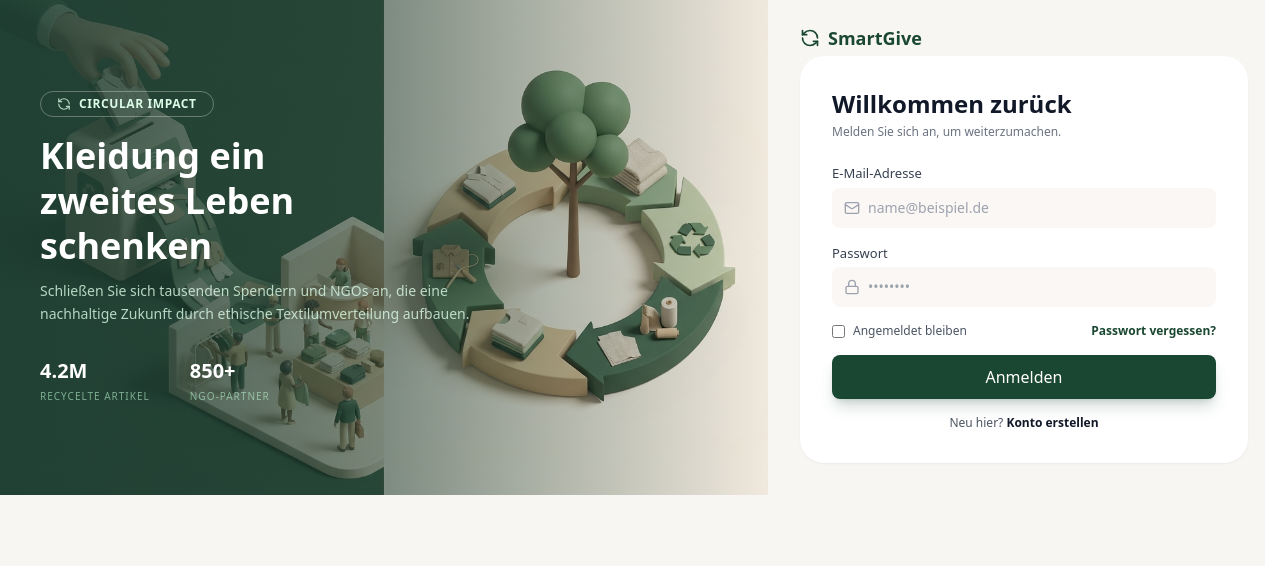
Test: Login Component › sollte bei fehlerhaftem Login eine Fehlermeldung auf dem Bildschirm anzeigen
Nutzer füllt Formular aus
Type "test@invalid.com" into the field with placeholder "name@beispiel.de" at (1024, 208), box [832,188,1216,228]
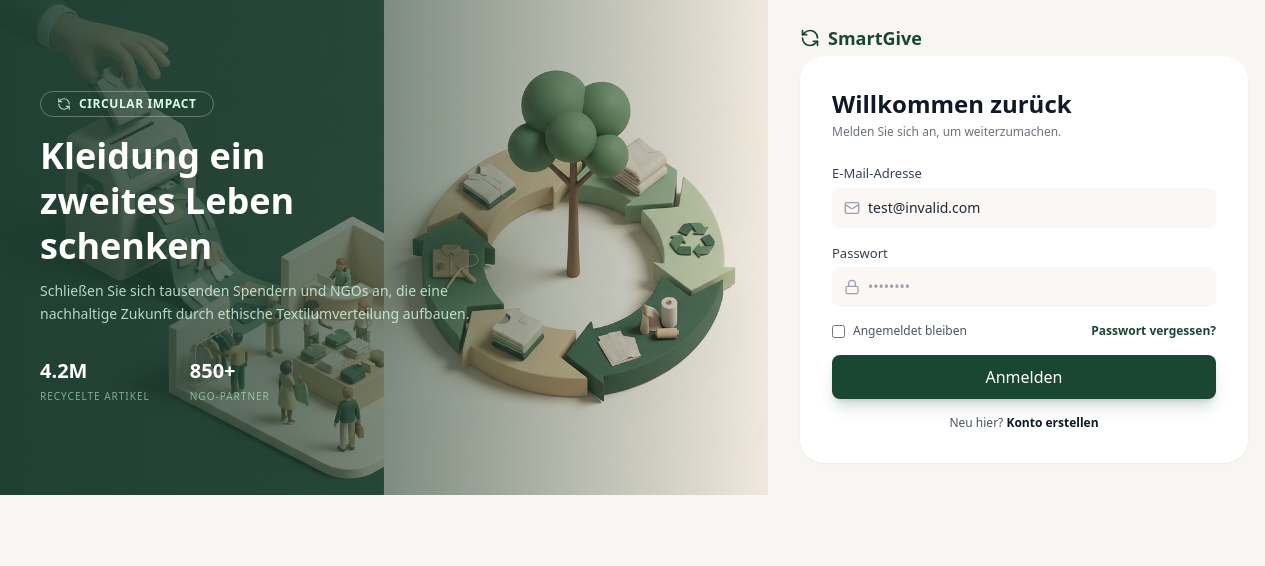
Type "wrong123" into the password field with placeholder "••••••••" at (1024, 287), box [832,267,1216,307]
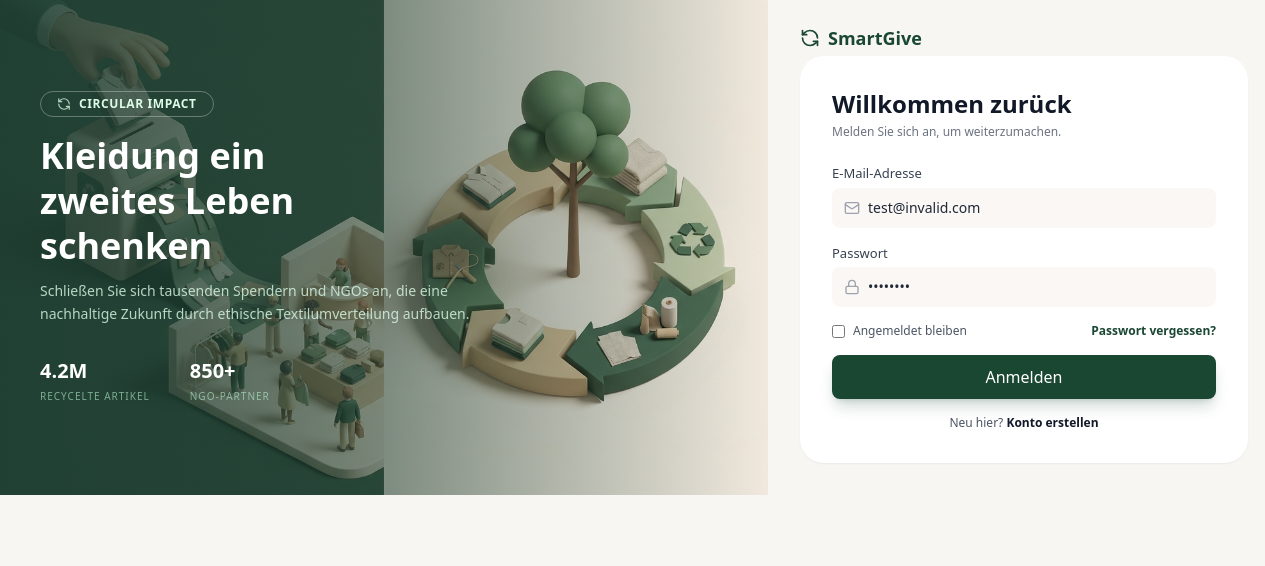
Formular absenden
Click the button "Anmelden" at (1024, 377), box [832,355,1216,399]
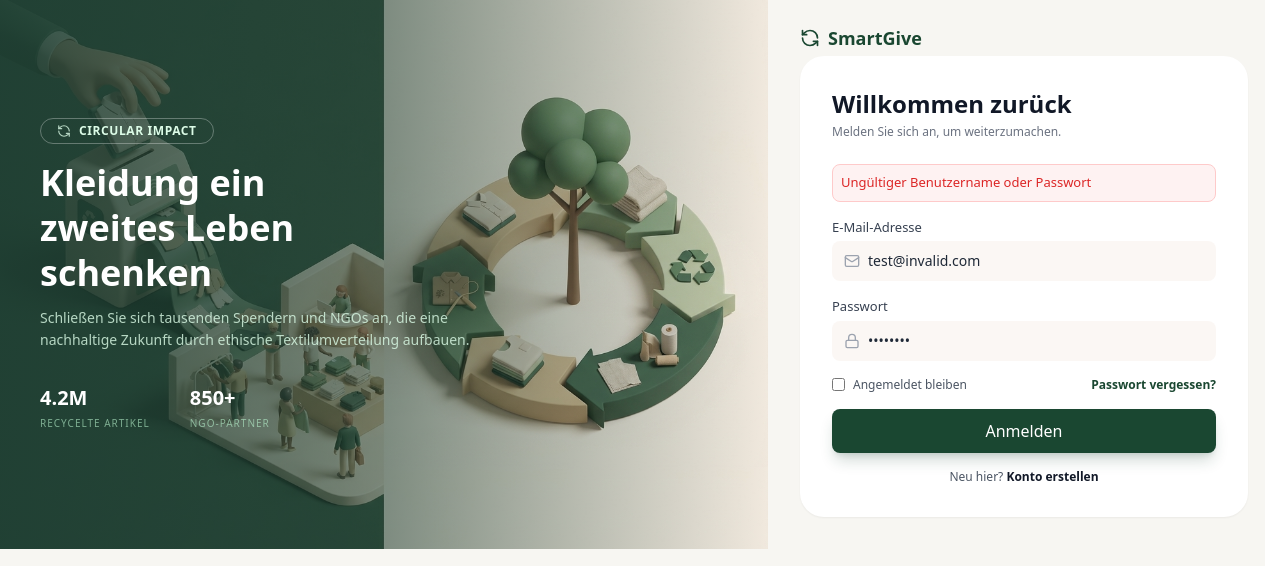
Expected: the text "Ungültiger Benutzername oder Passwort" is shown, [832,164,1216,202]
